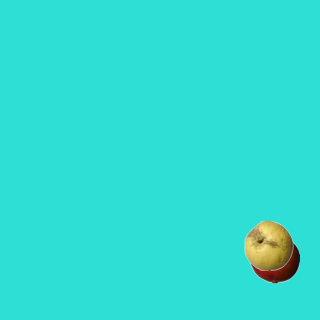Apple Braeburn: (249, 233, 299, 283)
Apple Golden 1: (243, 220, 293, 270)
